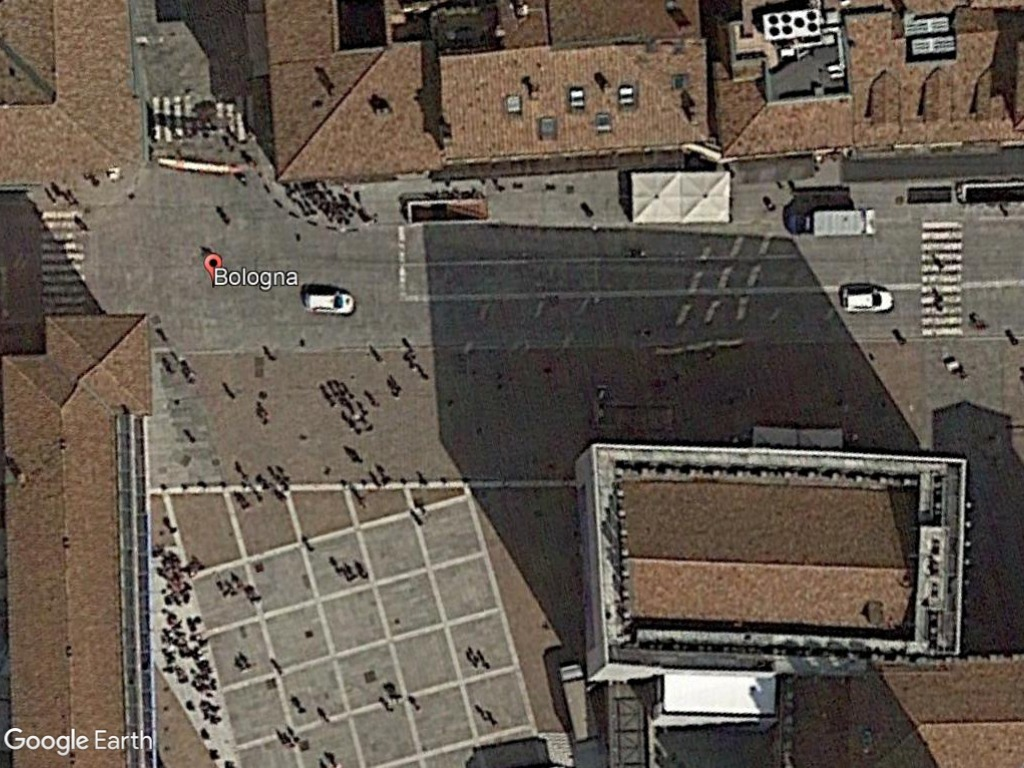car: (839, 285, 898, 316), (300, 289, 360, 318)
truck: (786, 207, 866, 238)
